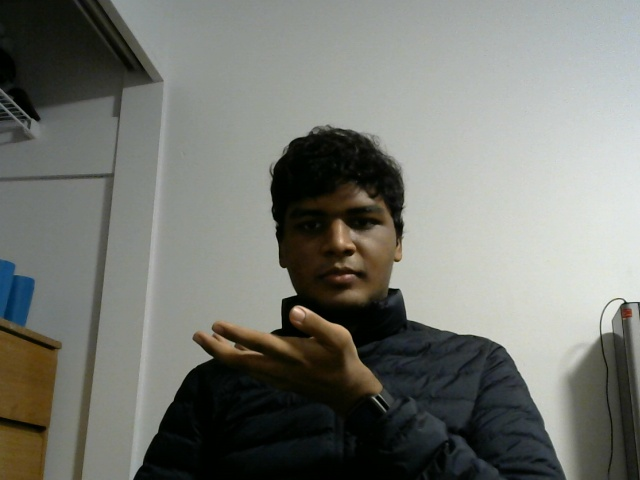Speech: (188, 297, 384, 405)
